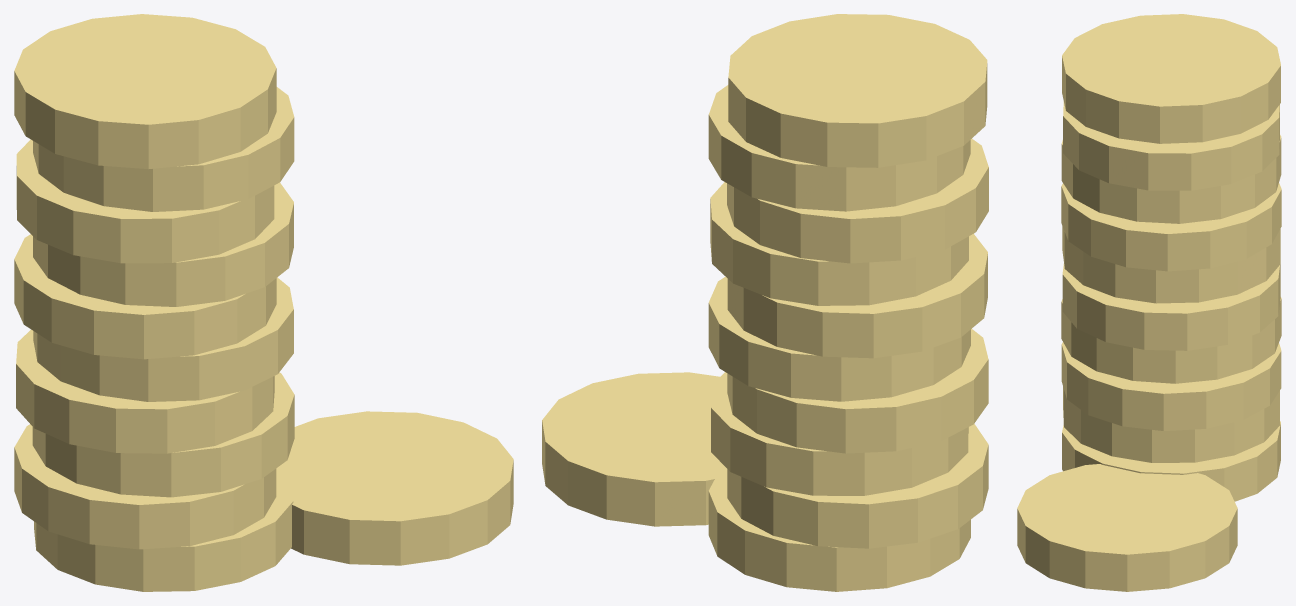
Rendered from CoinMultiplierProp.glb.
3 views of the same model, side by side, from view 1: azimuth 30°, elevation 25°; view 2: azimuth 150°, elevation 25°; view 3: azimuth 270°, elevation 25° (orthographic). The views are drawn at different scales.
Parts seen in each view (by area): view 1: CoinMultiplierProp_0; view 2: CoinMultiplierProp_0; view 3: CoinMultiplierProp_0.
Boxes of the visible parts, x1=… form: CoinMultiplierProp_0: x1=14, y1=14, x2=513, y2=591; CoinMultiplierProp_0: x1=542, y1=14, x2=988, y2=591; CoinMultiplierProp_0: x1=1017, y1=14, x2=1281, y2=591.
Bounding box in the file's own units: 2.9 × 2.99 × 1.8.
